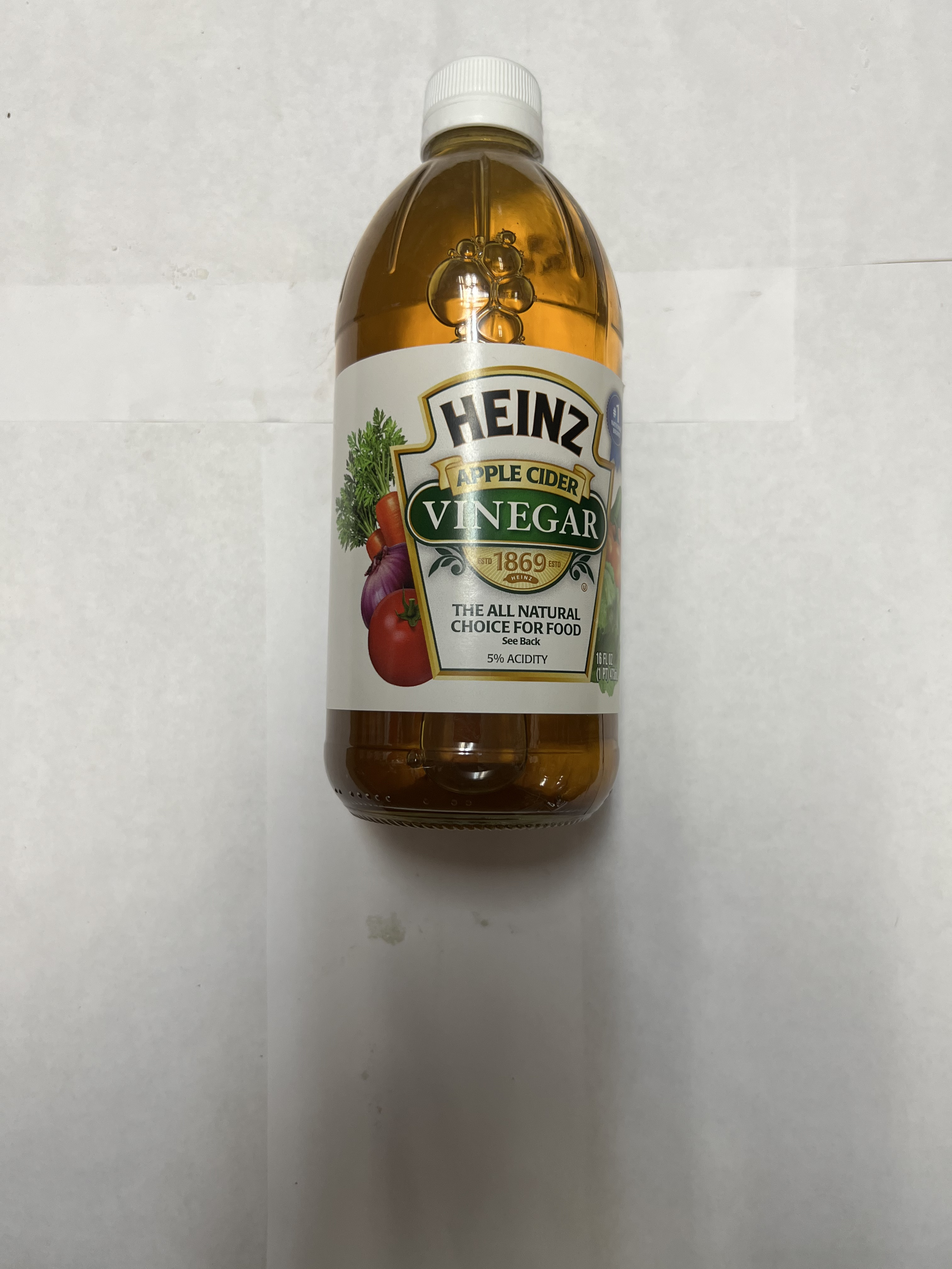packaged: (322, 53, 633, 832)
